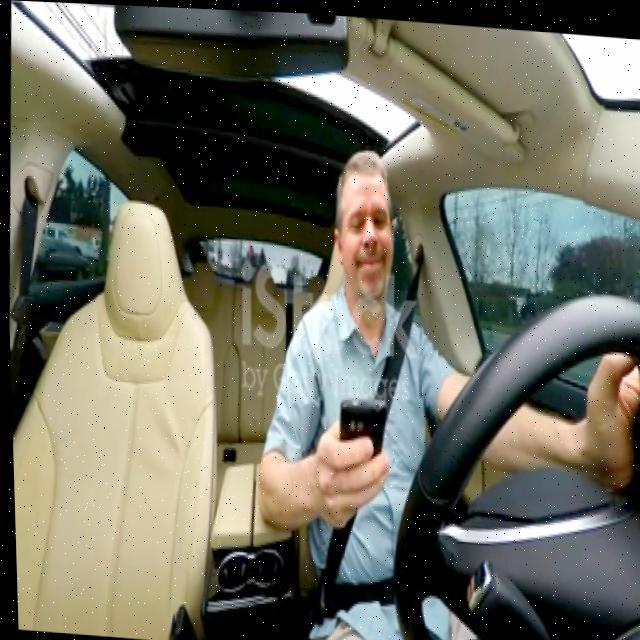PhoneCall: (332, 388, 388, 477)
